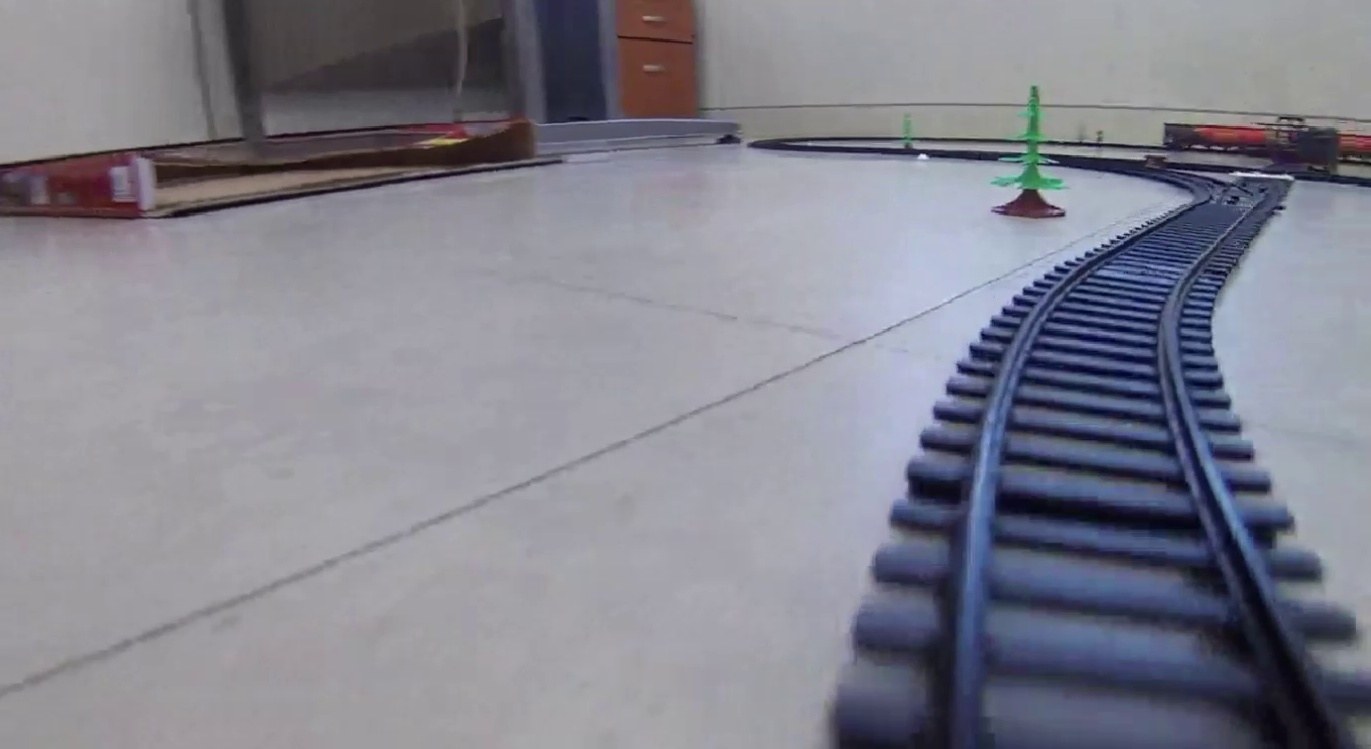tree: (987, 86, 1069, 222)
